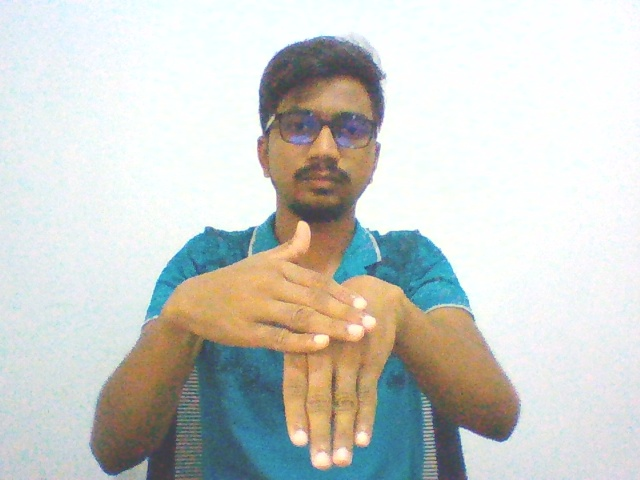pineapple: (161, 211, 408, 474)
